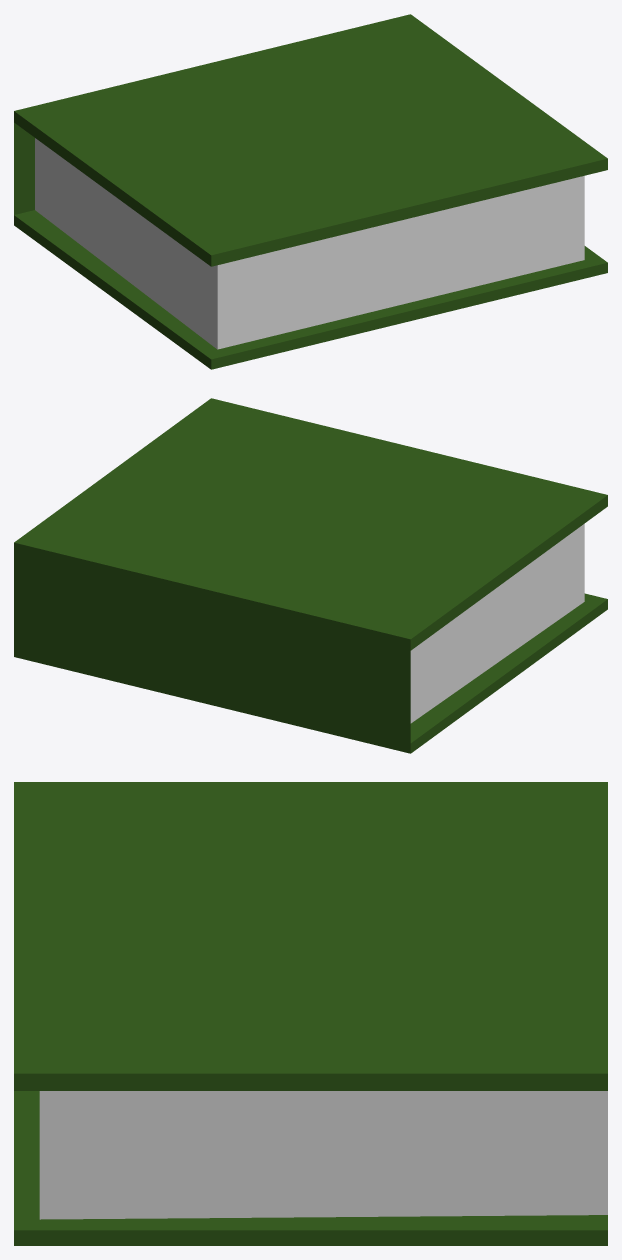
Rendered from book2.glb.
The picture shows the model from 3 angles, top to bottom: view 1: azimuth 30°, elevation 25°; view 2: azimuth 150°, elevation 25°; view 3: azimuth 270°, elevation 25°; orthographic projection. The views are drawn at different scales.
Parts seen in each view (by area): view 1: Book; view 2: Book; view 3: Book.
Boxes of the visible parts, x1,y1,x2,y2 form: Book: [14, 14, 607, 369]; Book: [14, 398, 607, 753]; Book: [14, 782, 607, 1245].
Size of the model in its own units: 0.7236 by 0.1994 by 0.6231.
1 material, 1 textured.
